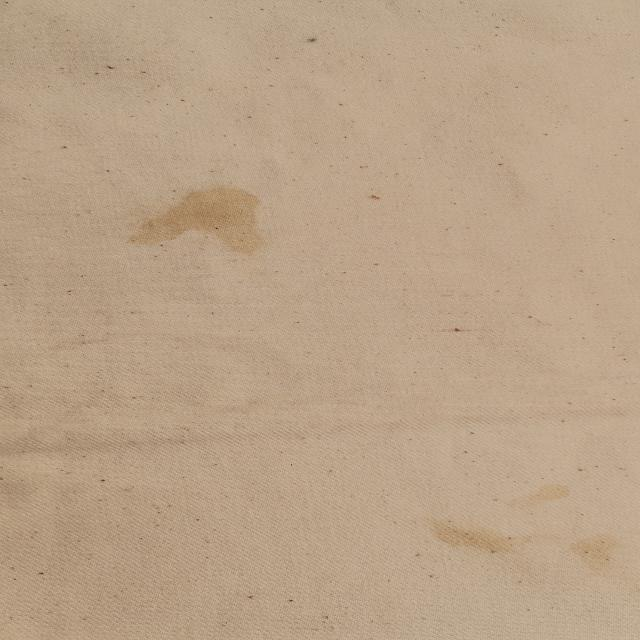taaaches: (116, 174, 301, 270), (413, 506, 512, 560), (564, 528, 626, 565)
